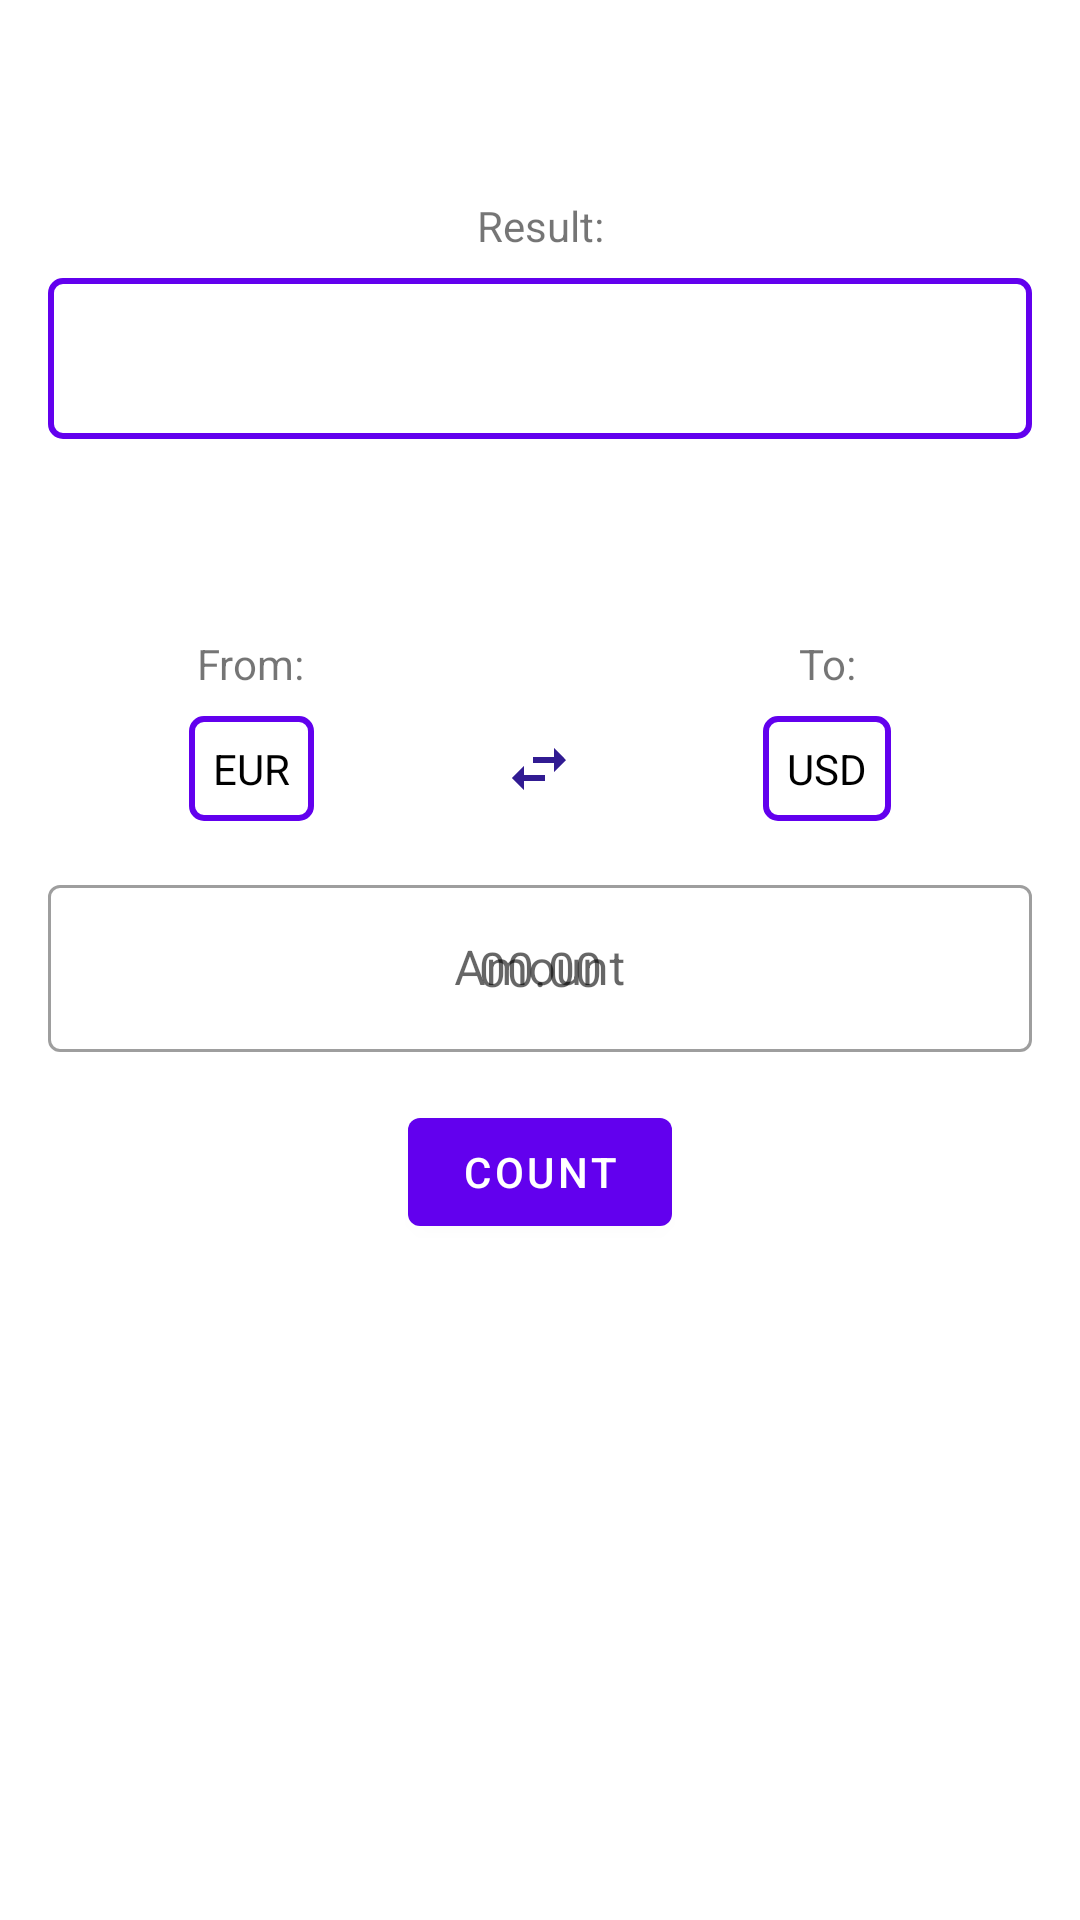

Locate icon controls on the screen. Image size 1080 x 1920, boxes as (x1, y1, x2, y2).
swap: (512, 748, 566, 790)
